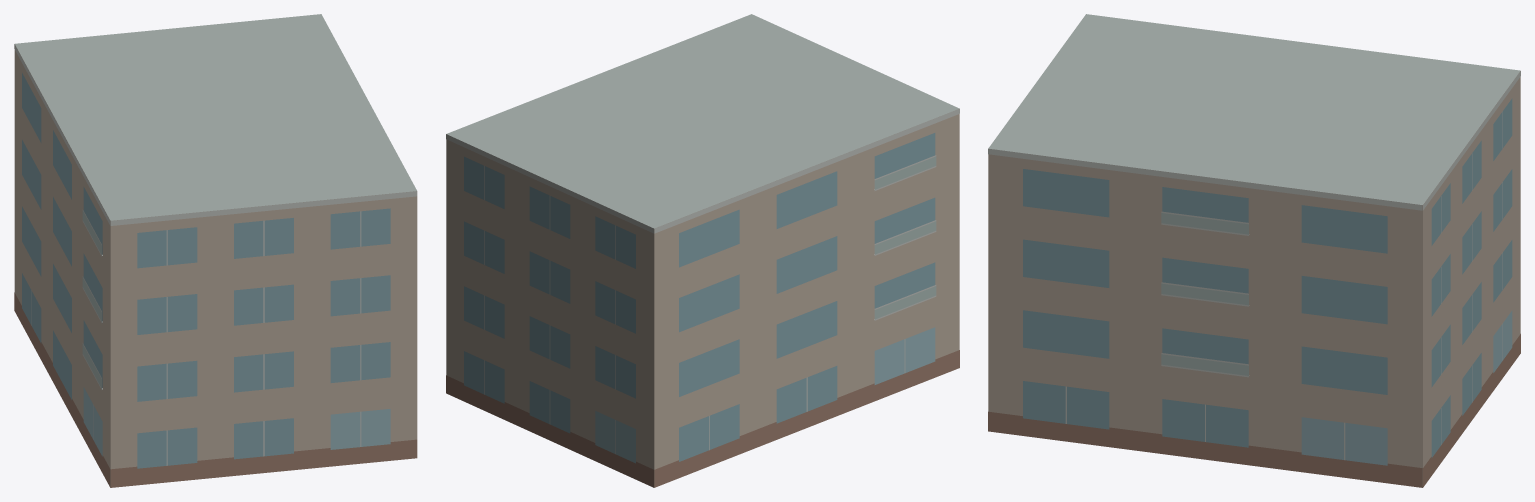
Rendered from residential-2987b007-0381-4748-ac56-266d4bdbdb60.glb.
3 renders of one model, left to right at view 1: azimuth 30°, elevation 25°; view 2: azimuth 150°, elevation 25°; view 3: azimuth 270°, elevation 25°, orthographic. The views are drawn at different scales.
Parts seen in each view (by area): view 1: residential-2987b007-0381-4748-ac56-266d4bdbdb60.tmp; view 2: residential-2987b007-0381-4748-ac56-266d4bdbdb60.tmp; view 3: residential-2987b007-0381-4748-ac56-266d4bdbdb60.tmp.
Part boxes in pixels (left/top/right/bottom): residential-2987b007-0381-4748-ac56-266d4bdbdb60.tmp: left=14, top=14, right=417, bottom=487; residential-2987b007-0381-4748-ac56-266d4bdbdb60.tmp: left=446, top=14, right=959, bottom=487; residential-2987b007-0381-4748-ac56-266d4bdbdb60.tmp: left=988, top=14, right=1520, bottom=487.
Size of the model in its own units: 17.7 by 12.2 by 20.84.
